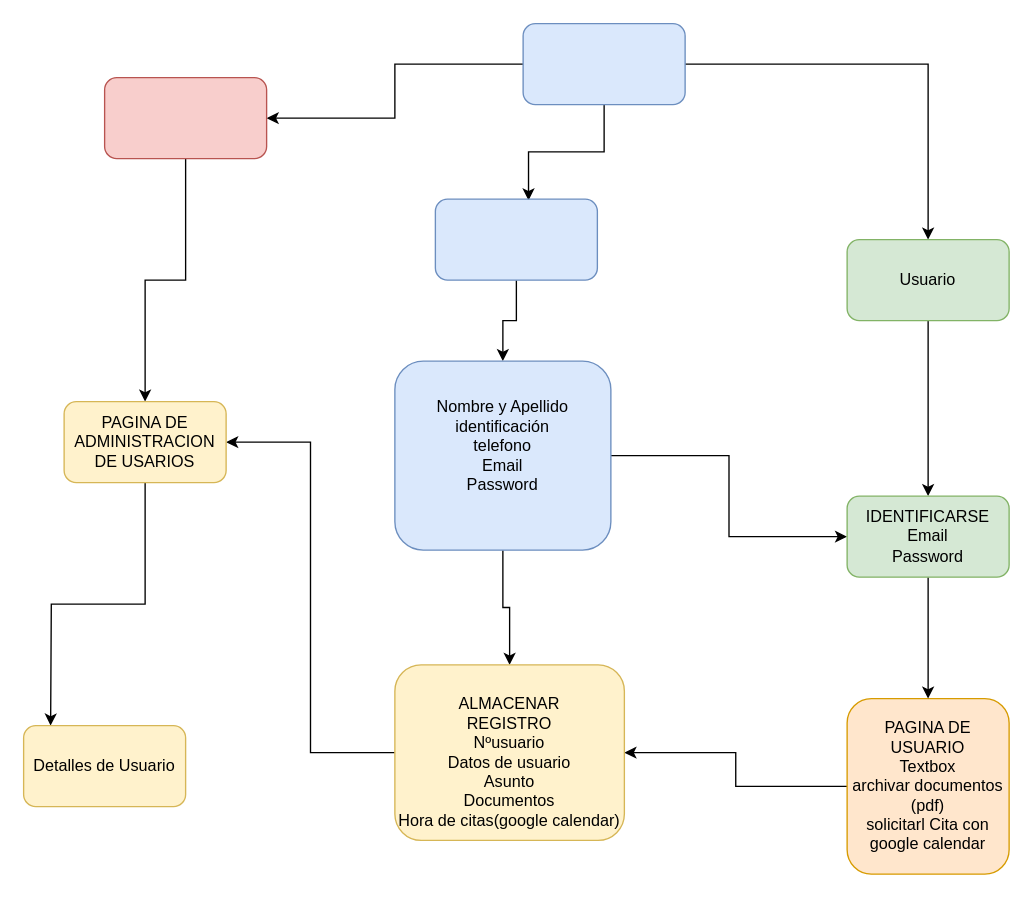
Some shapes in this 1033 by 898 pixel diagram are drawn without their labels. The shapes that lost their labels are listed below. From the top down, each one's box as (x1, y1, x2, y2) in pixels, then its label:
(522, 22, 685, 105): PAGINA PRINCIPAL
(103, 76, 267, 159): Sesión de administrador
(434, 198, 597, 280): Nuevo usuario
